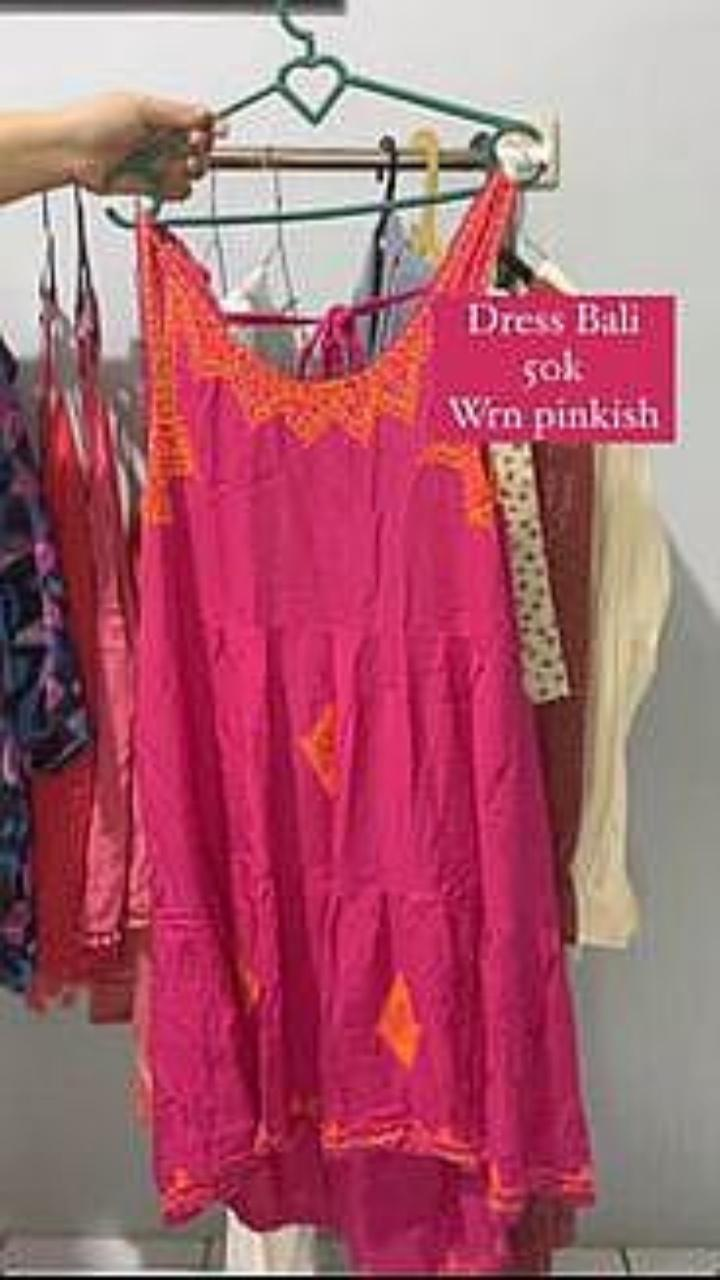Dresses: (138, 221, 592, 1273)
